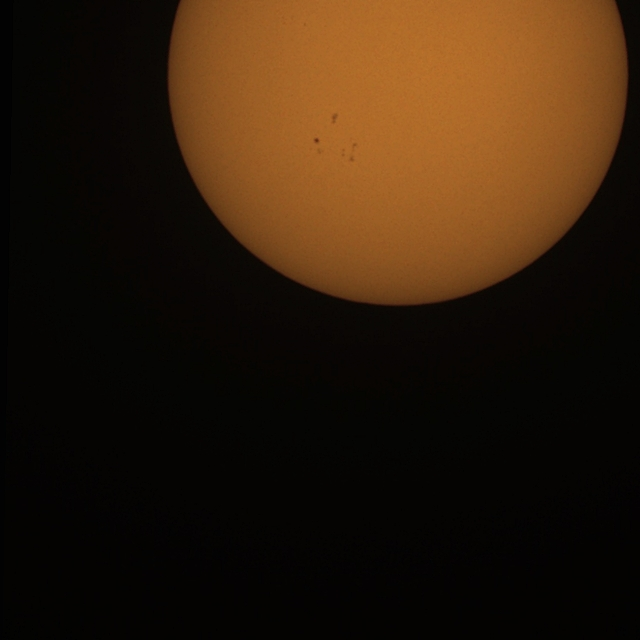sunspot: (341, 142, 358, 163), (312, 136, 324, 156), (330, 111, 339, 125)
